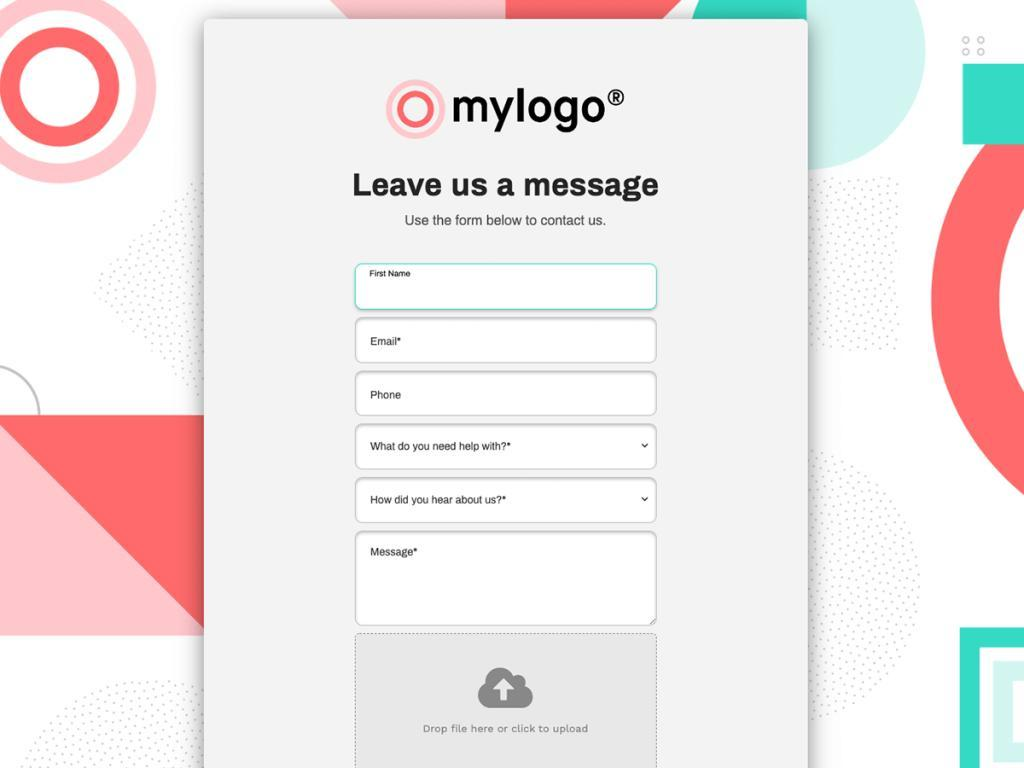dropdown: (354, 476, 659, 526), (354, 424, 660, 472)
input: (354, 261, 660, 314), (354, 370, 661, 418), (354, 317, 660, 365)
label: (352, 170, 662, 201), (404, 214, 609, 230)
